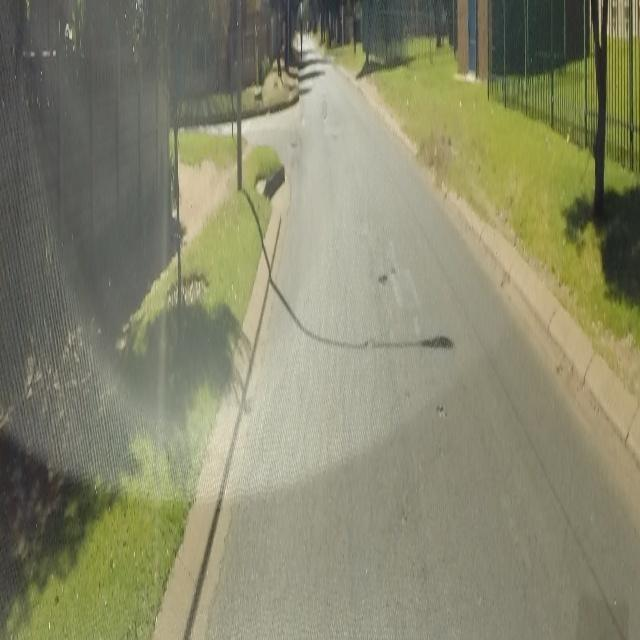pothole: (434, 396, 446, 417), (377, 269, 388, 286)
